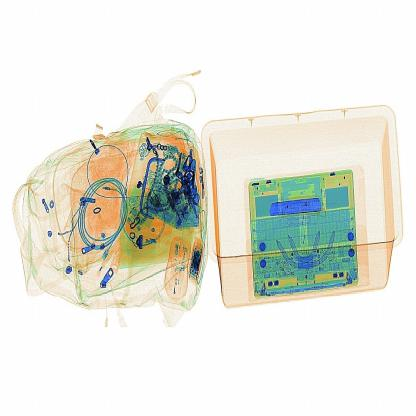pliers: (260, 188, 330, 226)
